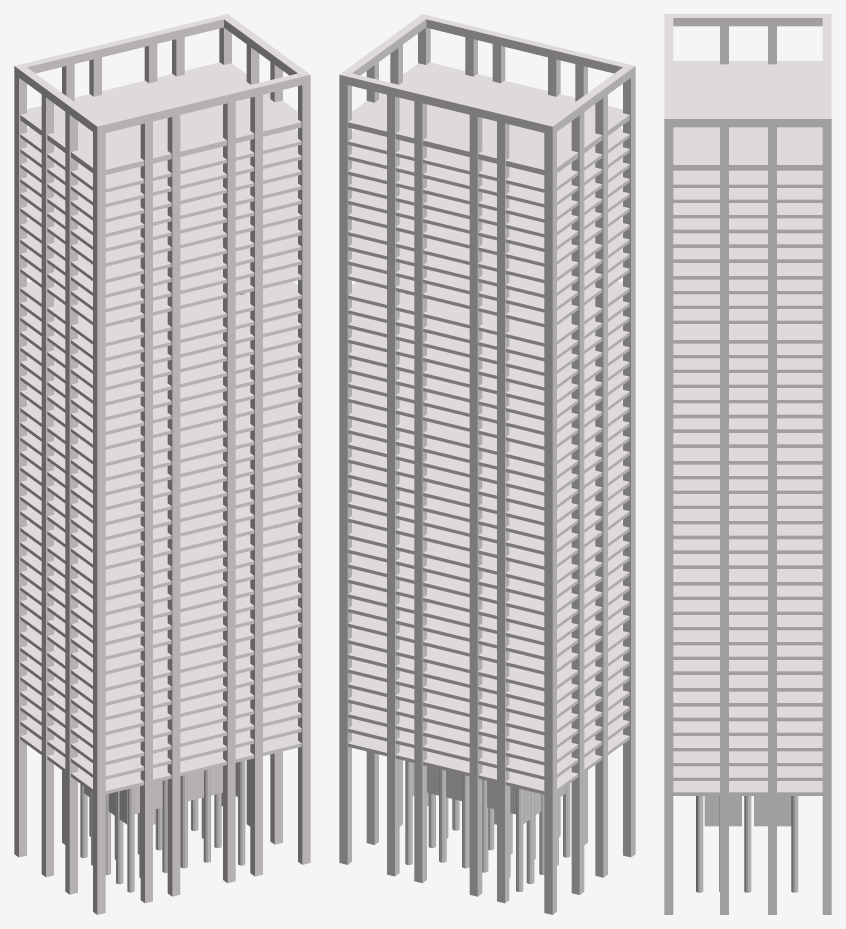
The model's file is grattacielo_struttura.fbx.
The picture shows the model from 3 angles, left to right: view 1: azimuth 30°, elevation 25°; view 2: azimuth 150°, elevation 25°; view 3: azimuth 270°, elevation 25°; orthographic projection.
Parts seen in each view (by area): view 1: pasted__pCube332; view 2: pasted__pCube332; view 3: pasted__pCube332.
Part boxes in pixels (x1,y1,x2,y2): pasted__pCube332: (14,14,310,914); pasted__pCube332: (339,14,635,914); pasted__pCube332: (664,14,831,914).
Size of the model in its own units: 296 by 1049 by 200.
Materials: 1 (1 with a texture image).
